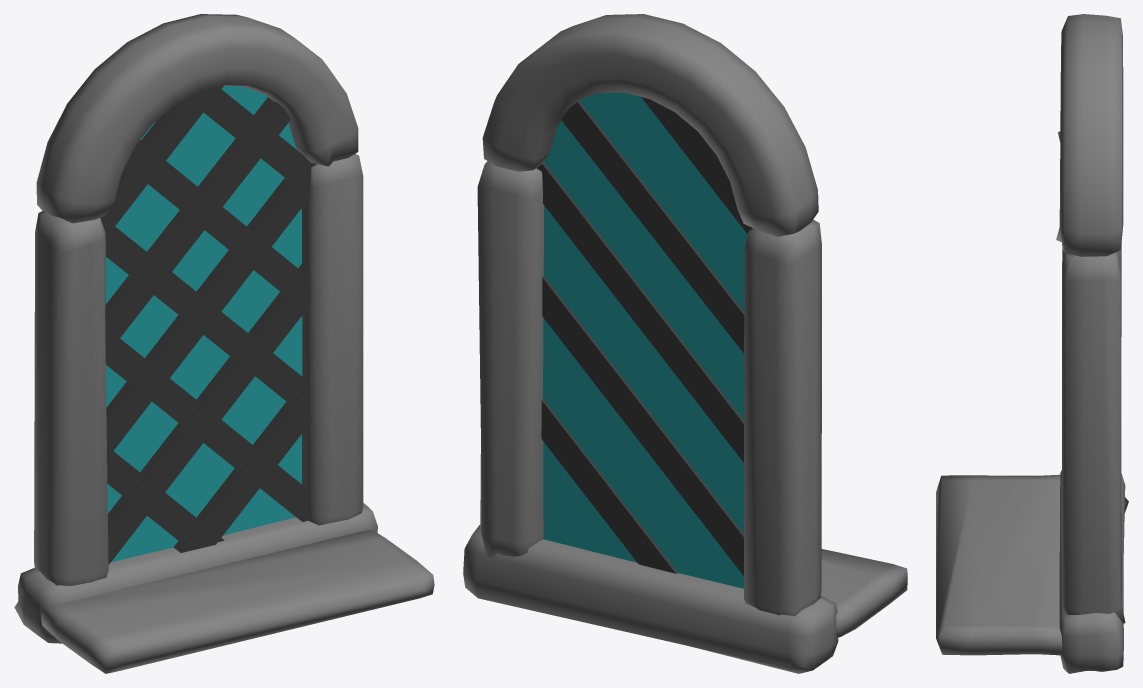
Rendered from SM_window_01.fbx.
3 renders of one model, left to right at view 1: azimuth 30°, elevation 25°; view 2: azimuth 150°, elevation 25°; view 3: azimuth 270°, elevation 25°, orthographic. The views are drawn at different scales.
Visible parts, largest first — view 1: ZBrush_defualt_group045; view 2: ZBrush_defualt_group045; view 3: ZBrush_defualt_group045.
Part boxes in pixels (bbox=[...]): ZBrush_defualt_group045: bbox=[14, 14, 434, 673]; ZBrush_defualt_group045: bbox=[463, 14, 907, 673]; ZBrush_defualt_group045: bbox=[936, 14, 1128, 673].
Size of the model in its own units: 36.84 by 60.07 by 18.52.
